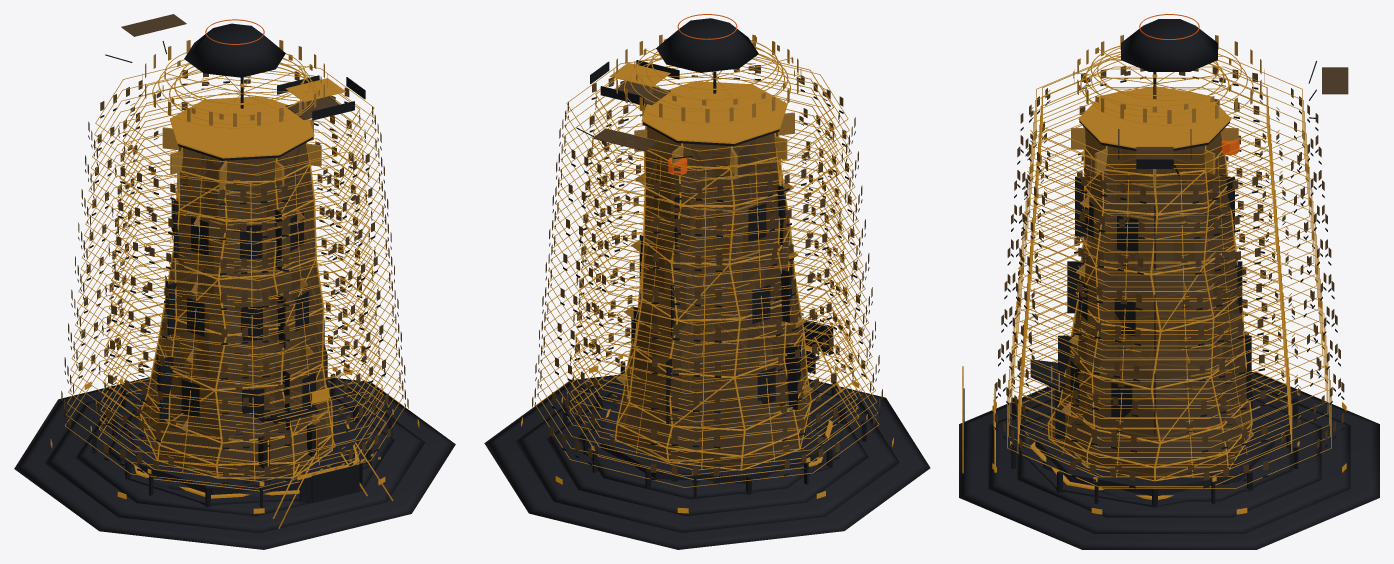
File: finance-ext-hero-draft-s86.glb
3 views of the same model, side by side, from view 1: azimuth 30°, elevation 25°; view 2: azimuth 150°, elevation 25°; view 3: azimuth 270°, elevation 25° (orthographic). The views are drawn at different scales.
Visible parts, largest first — view 1: finance_s86_emissive_hero_mesh, finance_s86_glass_hero_mesh, finance_s86_base_hero_mesh, finance_s86_detail_hero_mesh, finance_s86_accent_hero_mesh; view 2: finance_s86_glass_hero_mesh, finance_s86_emissive_hero_mesh, finance_s86_base_hero_mesh, finance_s86_detail_hero_mesh, finance_s86_accent_hero_mesh; view 3: finance_s86_glass_hero_mesh, finance_s86_emissive_hero_mesh, finance_s86_base_hero_mesh, finance_s86_detail_hero_mesh, finance_s86_accent_hero_mesh.
Boxes of the visible parts, x1=… form: finance_s86_emissive_hero_mesh: x1=50, y1=51, x2=419, y2=528; finance_s86_glass_hero_mesh: x1=61, y1=14, x2=408, y2=477; finance_s86_base_hero_mesh: x1=14, y1=377, x2=455, y2=549; finance_s86_detail_hero_mesh: x1=61, y1=23, x2=408, y2=508; finance_s86_accent_hero_mesh: x1=142, y1=40, x2=380, y2=481; finance_s86_glass_hero_mesh: x1=532, y1=65, x2=882, y2=476; finance_s86_emissive_hero_mesh: x1=521, y1=38, x2=893, y2=513; finance_s86_base_hero_mesh: x1=484, y1=374, x2=930, y2=549; finance_s86_detail_hero_mesh: x1=532, y1=18, x2=882, y2=497; finance_s86_accent_hero_mesh: x1=613, y1=34, x2=854, y2=462; finance_s86_glass_hero_mesh: x1=994, y1=66, x2=1348, y2=480; finance_s86_emissive_hero_mesh: x1=962, y1=45, x2=1346, y2=514; finance_s86_base_hero_mesh: x1=959, y1=372, x2=1379, y2=549; finance_s86_detail_hero_mesh: x1=963, y1=19, x2=1344, y2=507; finance_s86_accent_hero_mesh: x1=962, y1=35, x2=1264, y2=470.
Size of the model in its own units: 16.91 by 19.28 by 16.91.
